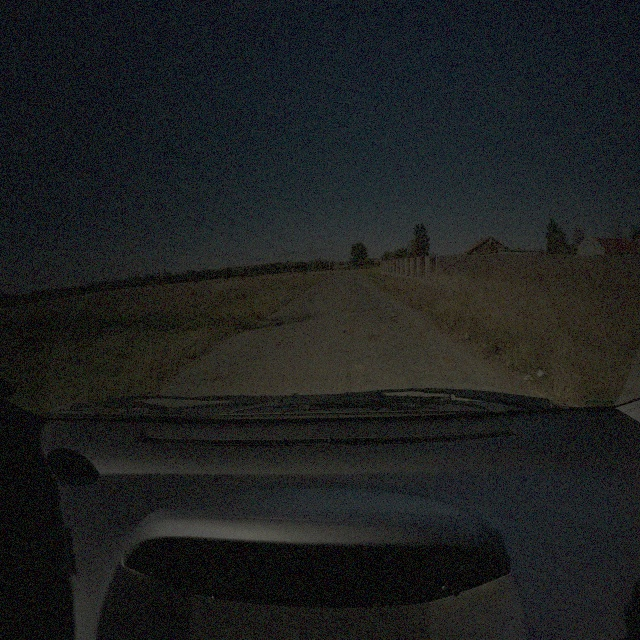pothole: (393, 315, 413, 330), (344, 326, 358, 336), (280, 339, 294, 349), (368, 333, 383, 342), (344, 308, 358, 316), (416, 332, 425, 342), (362, 309, 372, 316), (372, 307, 380, 314)
